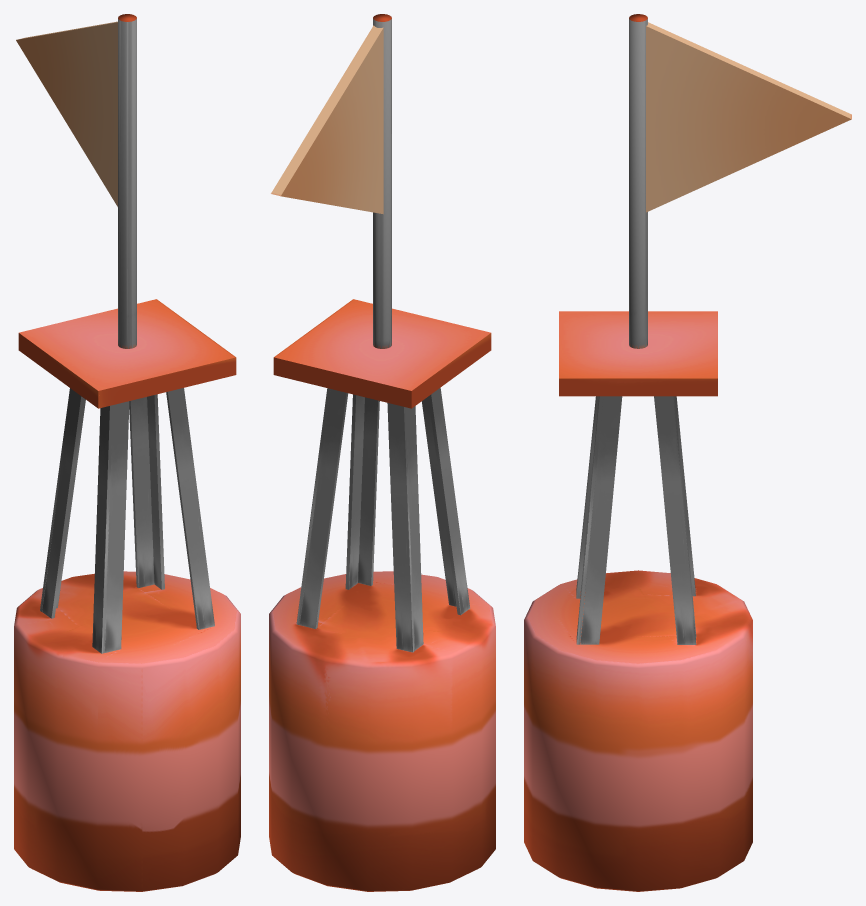
The model's file is buoy01.fbx.
3 views of the same model, side by side, from view 1: azimuth 30°, elevation 25°; view 2: azimuth 150°, elevation 25°; view 3: azimuth 270°, elevation 25° (orthographic).
Parts seen in each view (by area): view 1: Cylinder; view 2: Cylinder; view 3: Cylinder.
Part boxes in pixels (<box>): Cylinder: <box>14,14,240,891</box>; Cylinder: <box>269,14,495,891</box>; Cylinder: <box>524,14,851,891</box>.
Bounding box in the file's own units: 108 × 431 × 155.
Materials: 1 (1 with a texture image).
